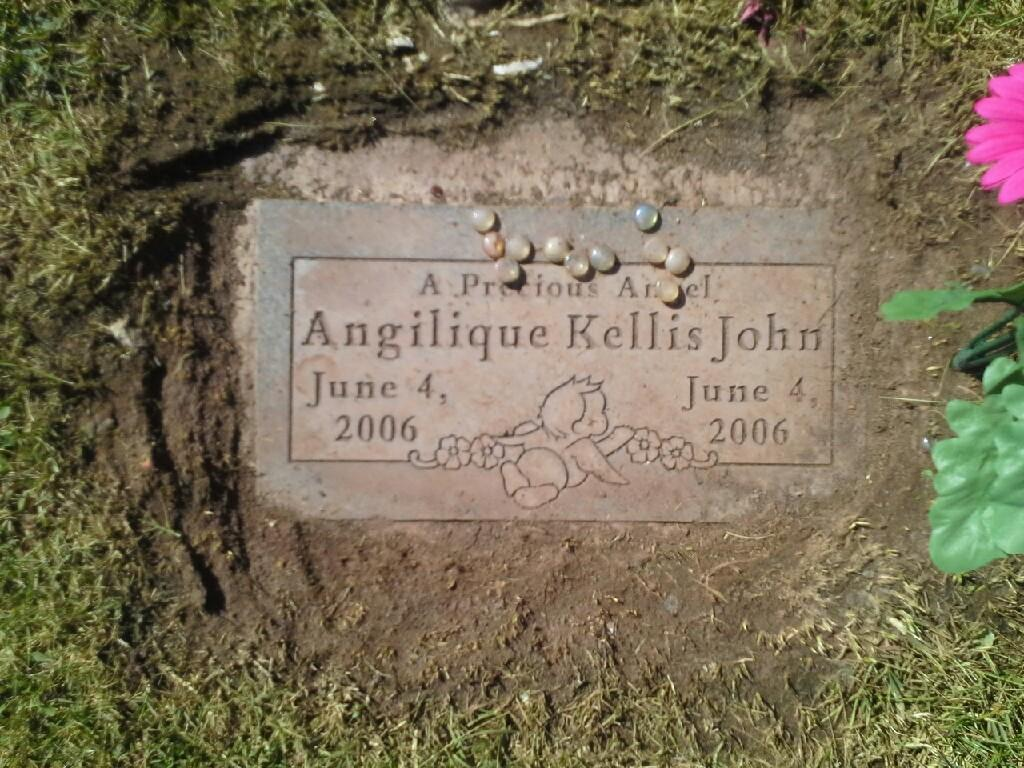flat: (235, 170, 895, 548)
